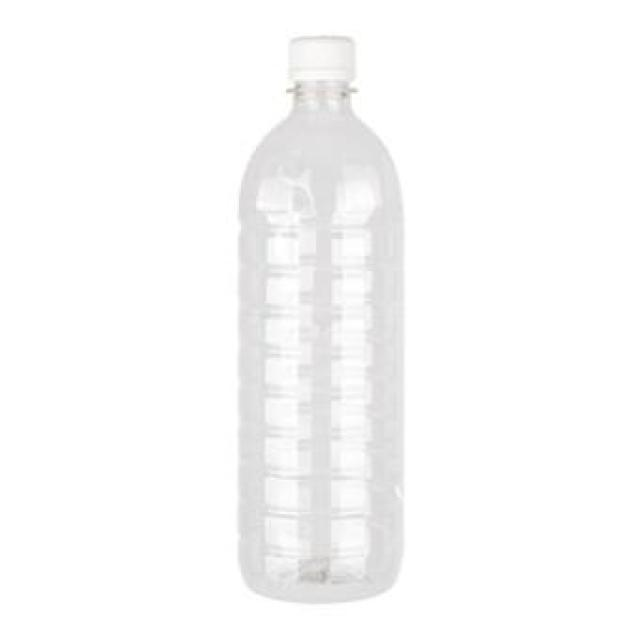plastic: (239, 36, 401, 602)
